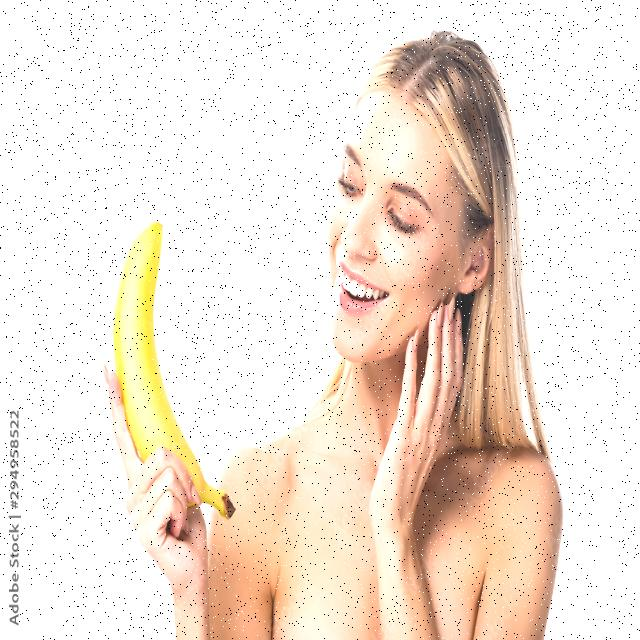Banana: (48, 130, 246, 562)
